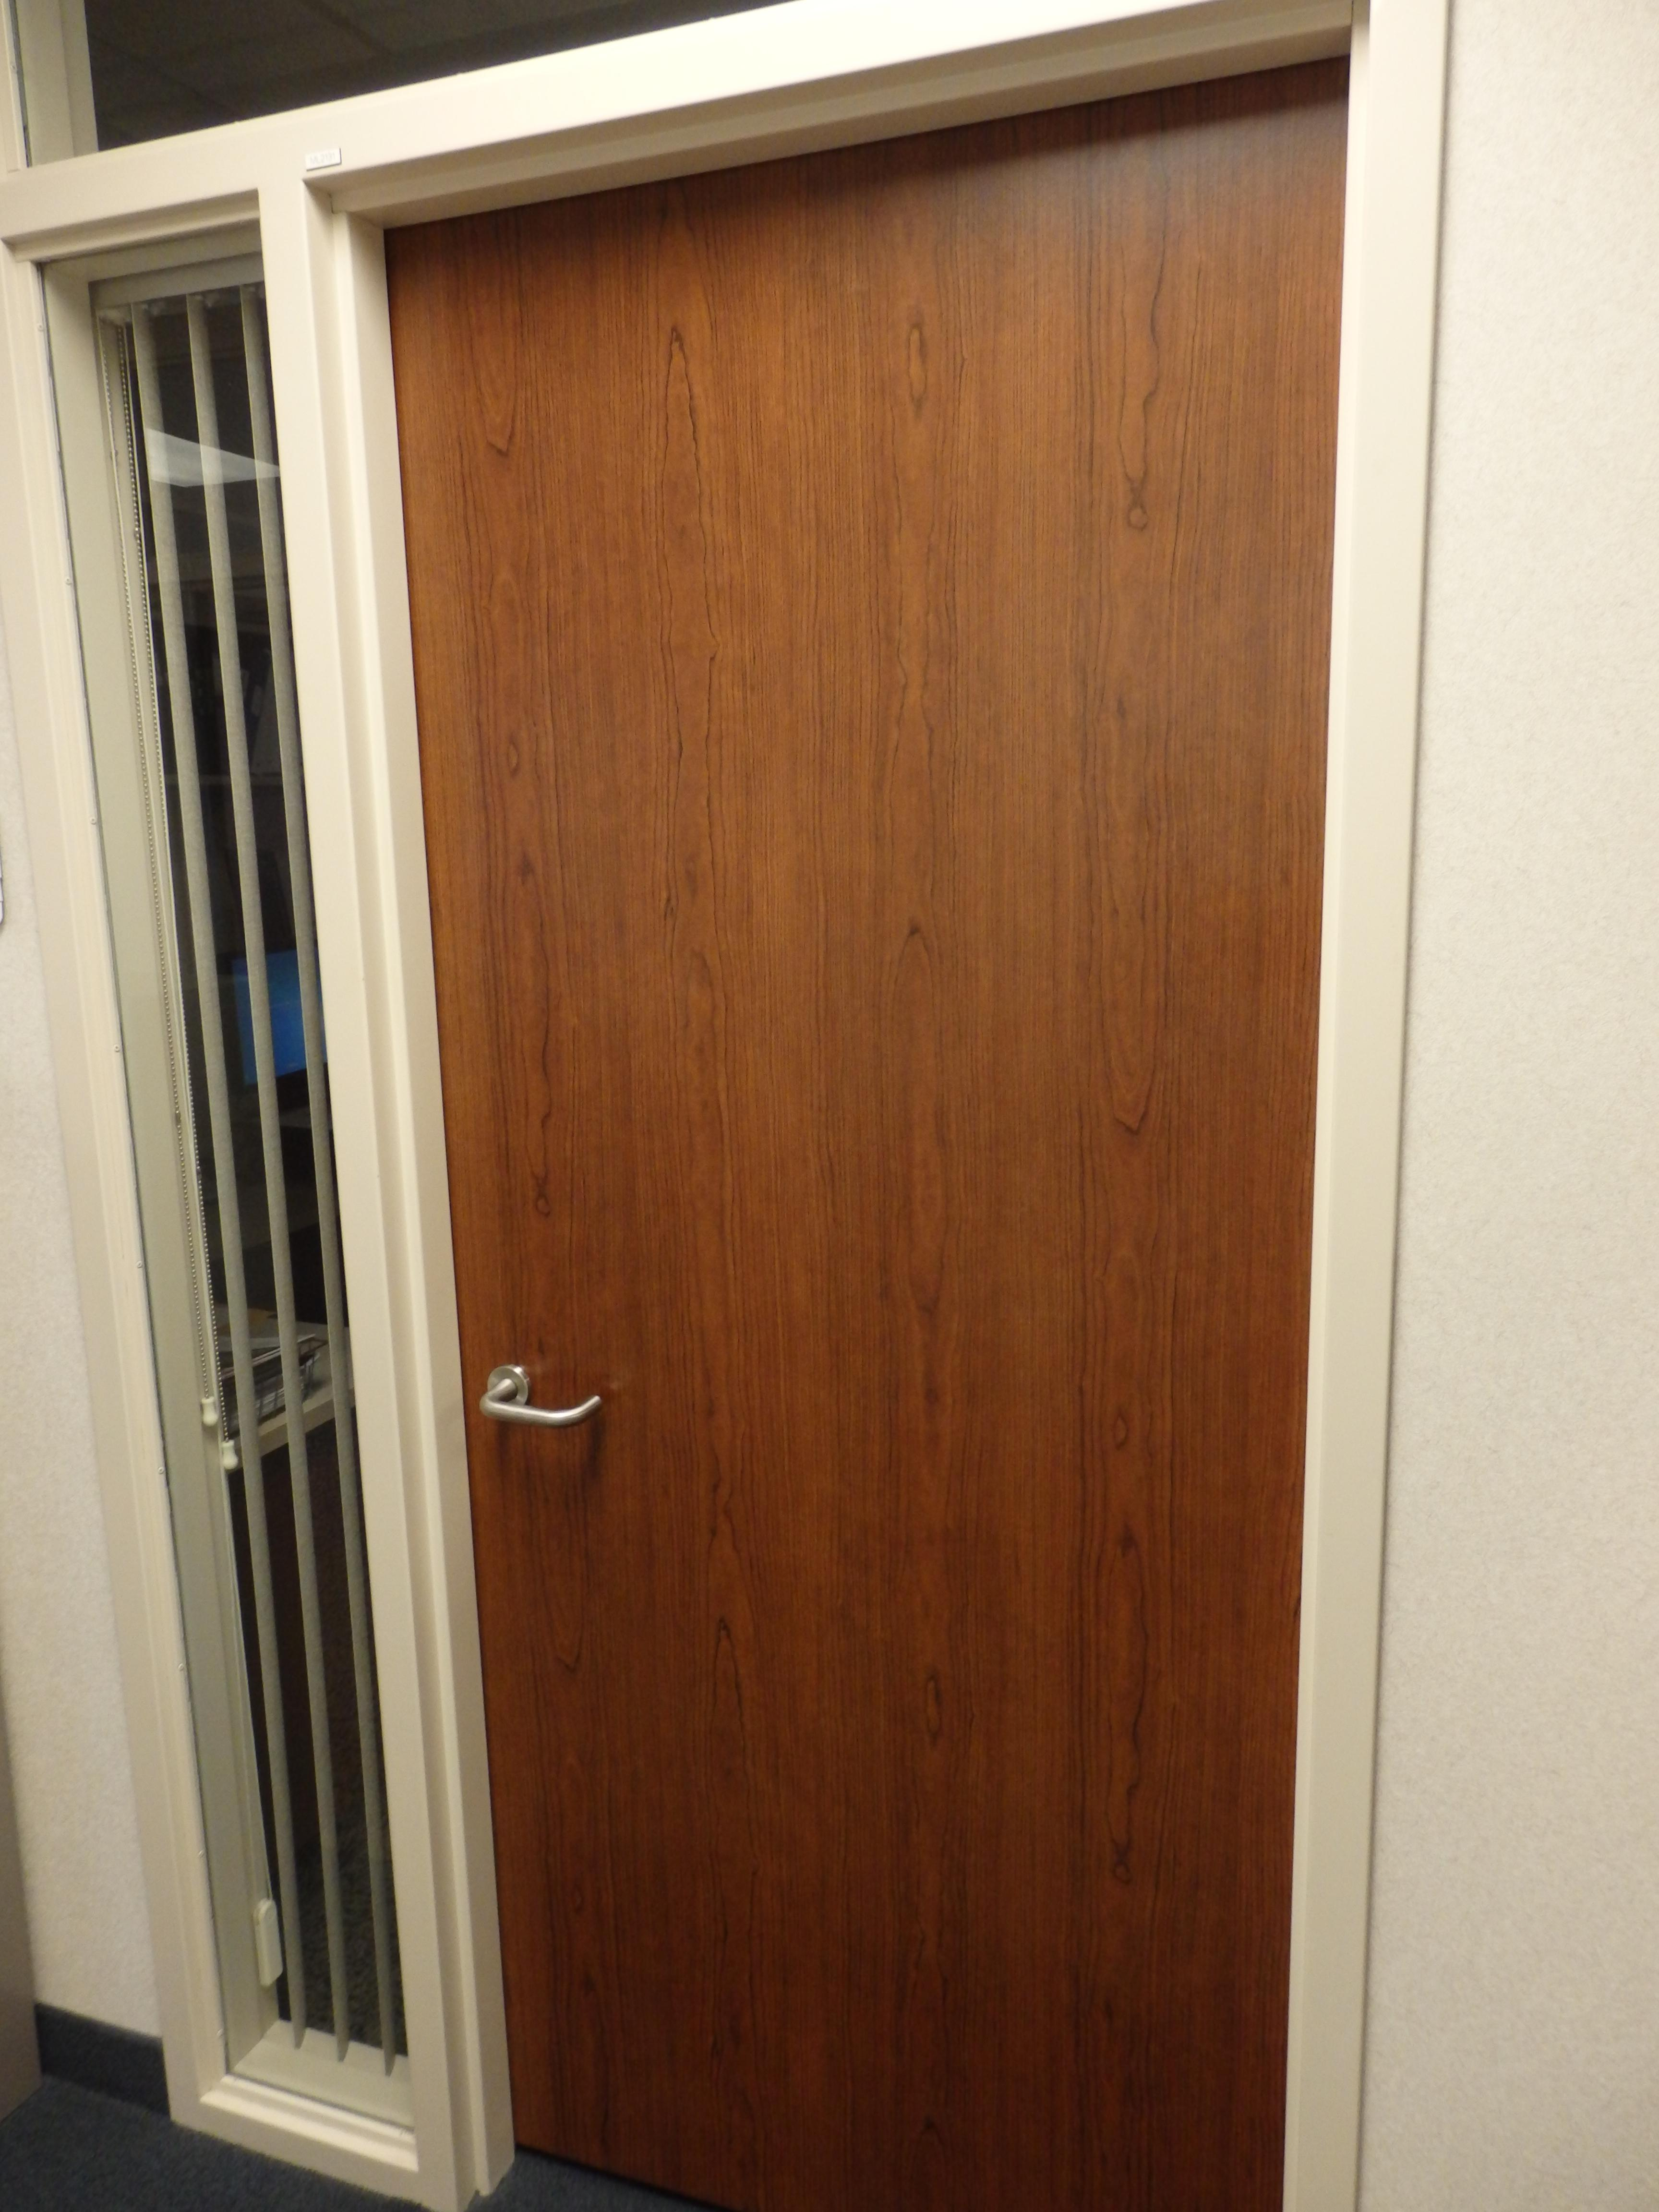door: (469, 293, 1277, 2212)
handle: (488, 1336, 606, 1484)
